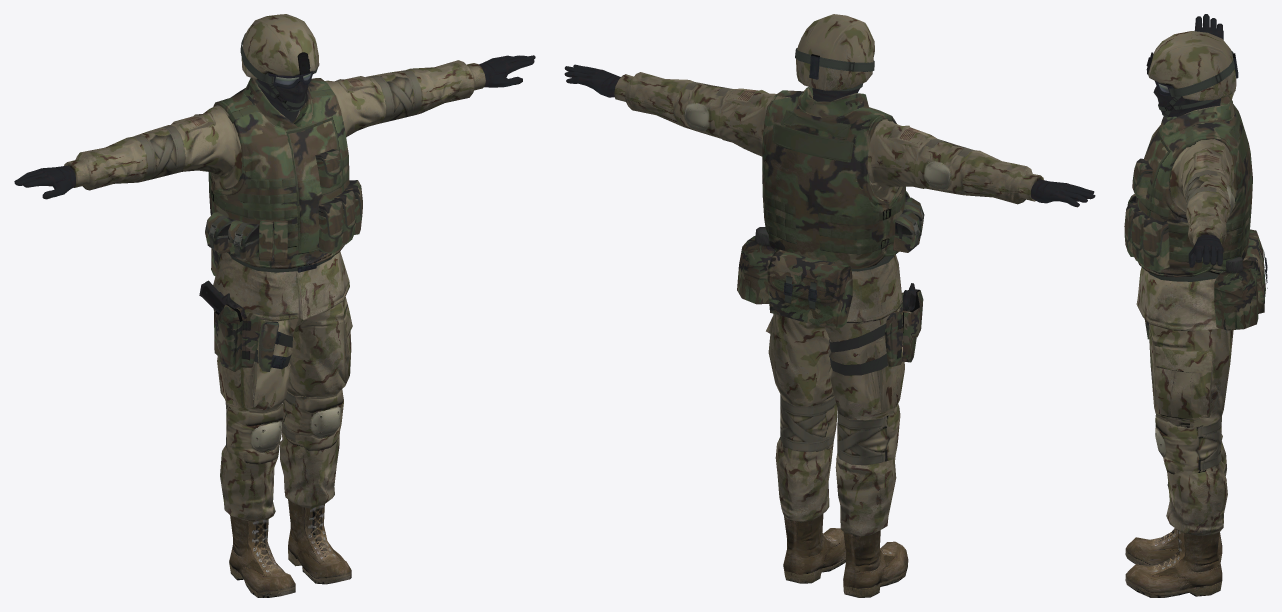
The model's file is mgs4_military.glb.
3 renders of one model, left to right at view 1: azimuth 30°, elevation 25°; view 2: azimuth 150°, elevation 25°; view 3: azimuth 270°, elevation 25°, orthographic. The views are drawn at different scales.
Parts seen in each view (by area): view 1: 41_mesh0_0.1_16_16, 41_mesh2_0.1_16_16, 41_mesh1_0.1_16_16, 41_mesh3_0.1_16_16, 41_mesh4_0.1_16_16; view 2: 41_mesh0_0.1_16_16, 41_mesh2_0.1_16_16, 41_mesh1_0.1_16_16, 41_mesh4_0.1_16_16, 41_mesh3_0.1_16_16; view 3: 41_mesh0_0.1_16_16, 41_mesh2_0.1_16_16, 41_mesh4_0.1_16_16, 41_mesh3_0.1_16_16, 41_mesh1_0.1_16_16.
Boxes of the visible parts, box(x1,y1,x2,y2) form: 41_mesh0_0.1_16_16: box(205, 14, 535, 272); 41_mesh2_0.1_16_16: box(213, 251, 352, 584); 41_mesh1_0.1_16_16: box(36, 20, 292, 194); 41_mesh3_0.1_16_16: box(14, 169, 295, 597); 41_mesh4_0.1_16_16: box(199, 68, 317, 312); 41_mesh0_0.1_16_16: box(564, 14, 924, 271); 41_mesh2_0.1_16_16: box(766, 254, 923, 583); 41_mesh1_0.1_16_16: box(825, 20, 1071, 204); 41_mesh4_0.1_16_16: box(737, 48, 917, 328); 41_mesh3_0.1_16_16: box(837, 184, 1095, 597); 41_mesh0_0.1_16_16: box(1124, 31, 1252, 281); 41_mesh2_0.1_16_16: box(1125, 267, 1233, 597); 41_mesh4_0.1_16_16: box(1155, 59, 1267, 330); 41_mesh3_0.1_16_16: box(1125, 14, 1222, 566); 41_mesh1_0.1_16_16: box(1194, 25, 1234, 99).
Size of the model in its own units: 1.86 by 1.89 by 0.452.
Materials: 7 (7 with a texture image).
